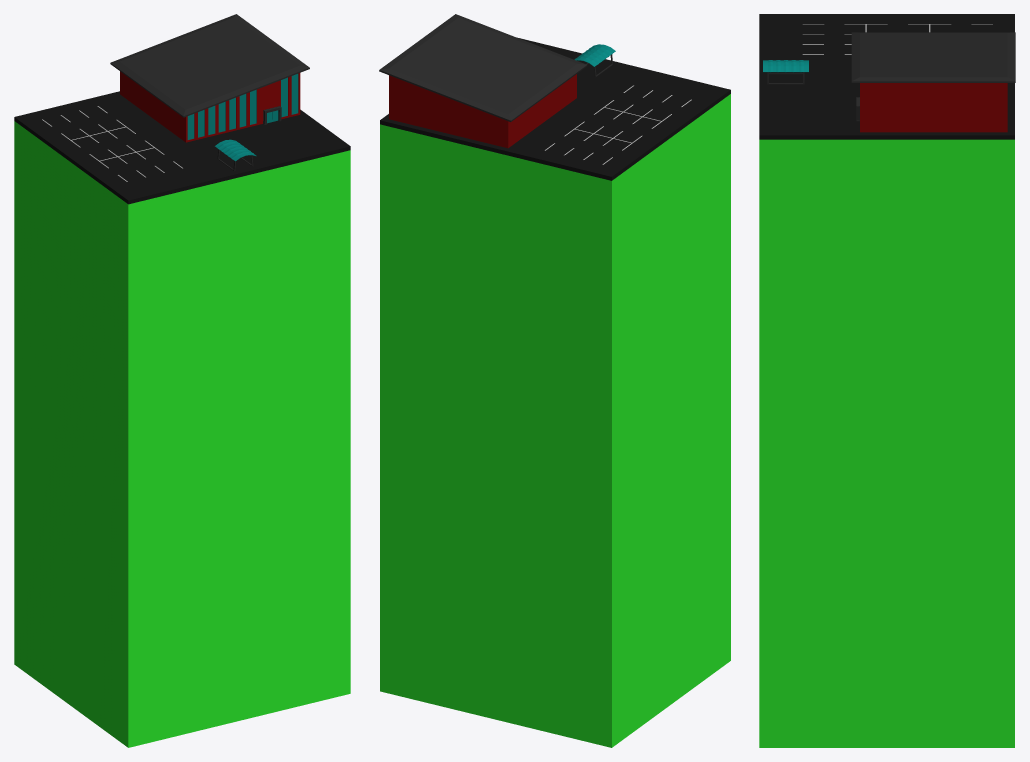
File: uploads_files_852000_Shopping_Center_FBX.FBX
The picture shows the model from 3 angles, left to right: view 1: azimuth 30°, elevation 25°; view 2: azimuth 150°, elevation 25°; view 3: azimuth 270°, elevation 25°; orthographic projection. The views are drawn at different scales.
Parts seen in each view (by area): view 1: Object007, Box001, Object002, Object001, Object005; view 2: Object007, Box001, Object002, Object001; view 3: Object007, Box001, Object002, Object001, Box002.
Boxes of the visible parts, bbox=[...] form: Object007: bbox=[14, 121, 350, 747]; Box001: bbox=[14, 91, 350, 204]; Object002: bbox=[110, 14, 309, 117]; Object001: bbox=[120, 71, 300, 142]; Object005: bbox=[187, 74, 298, 139]; Object007: bbox=[380, 94, 730, 747]; Box001: bbox=[380, 37, 730, 180]; Object002: bbox=[379, 14, 587, 121]; Object001: bbox=[389, 74, 576, 148]; Object007: bbox=[759, 139, 1014, 747]; Box001: bbox=[759, 14, 1014, 139]; Object002: bbox=[851, 32, 1015, 82]; Object001: bbox=[860, 83, 1007, 132]; Box002: bbox=[763, 60, 808, 72].
Size of the model in its own units: 60.44 by 155 by 53.77.
